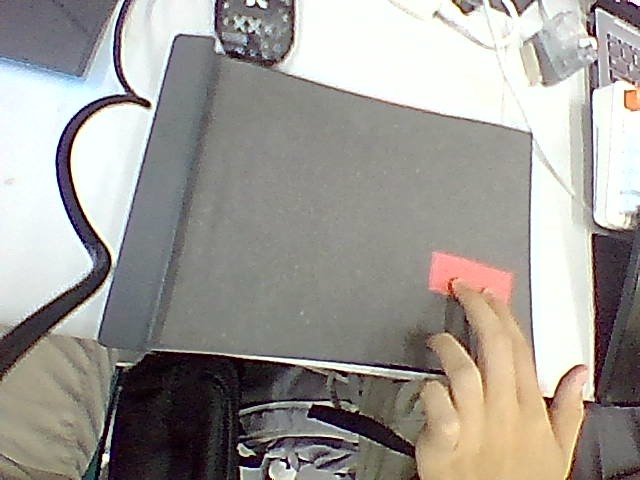card: (428, 252, 511, 301)
